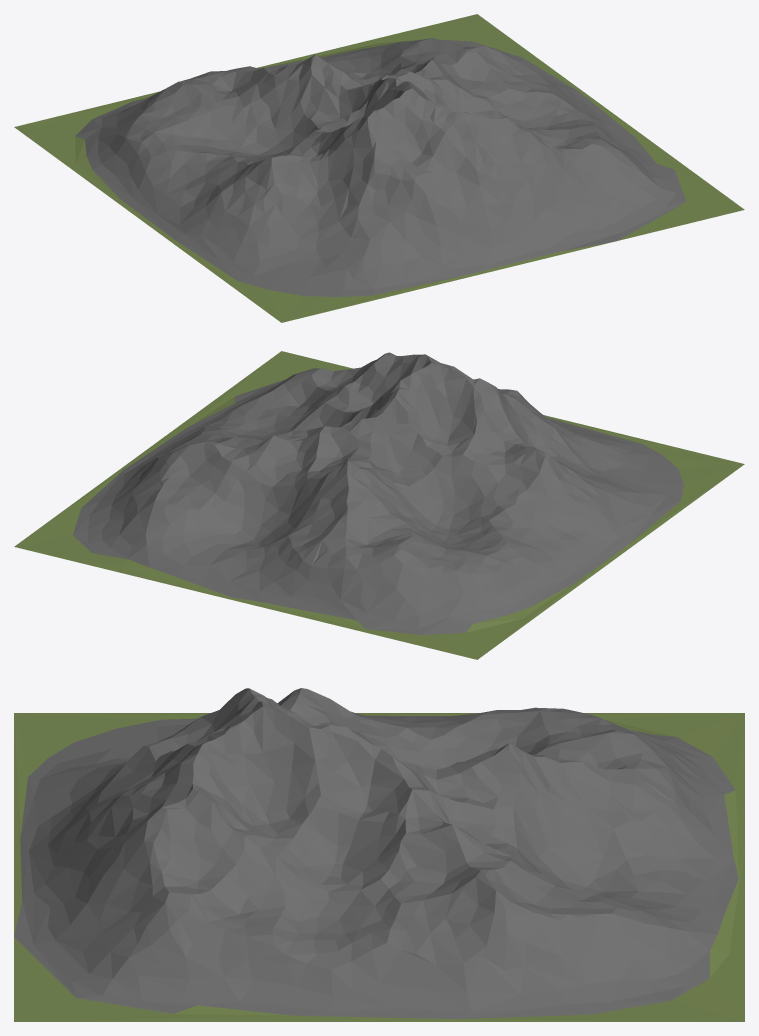
The model's file is Terrain_12.fbx.
3 views of the same model, one above another, from view 1: azimuth 30°, elevation 25°; view 2: azimuth 150°, elevation 25°; view 3: azimuth 270°, elevation 25° (orthographic). The views are drawn at different scales.
Visible parts, largest first — view 1: Terrain_12; view 2: Terrain_12; view 3: Terrain_12.
Boxes of the visible parts, x1=… form: Terrain_12: x1=14, y1=14, x2=744, y2=322; Terrain_12: x1=14, y1=351, x2=744, y2=659; Terrain_12: x1=14, y1=688, x2=744, y2=1021.
Bounding box in the file's own units: 20000 × 4687 × 20000.
